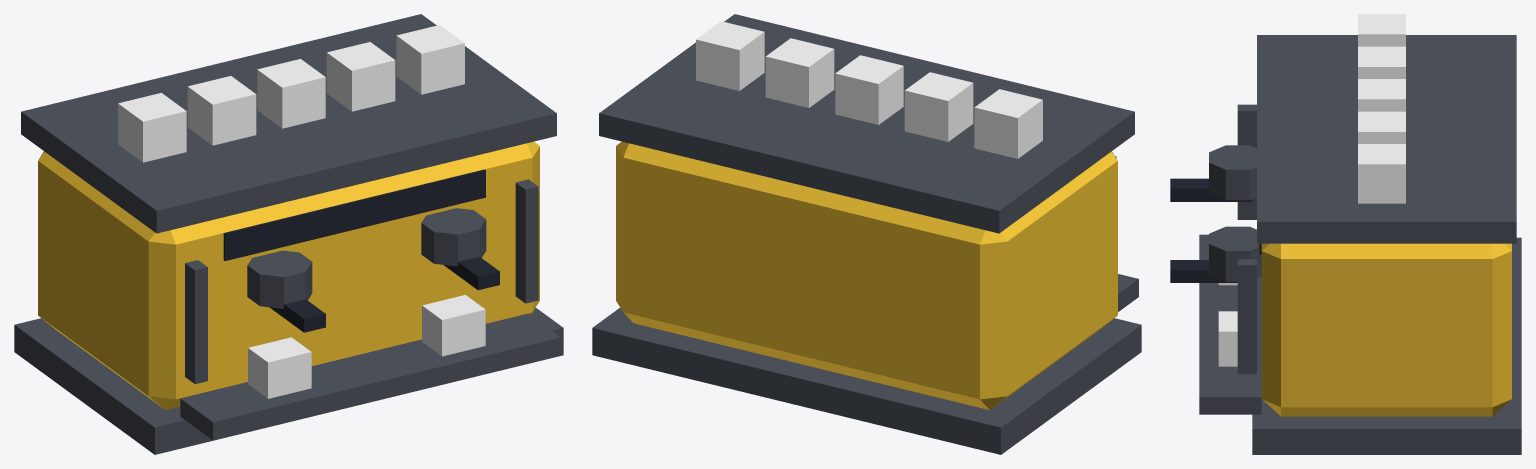
Rendered from espresso-pro.glb.
The picture shows the model from 3 angles, left to right: view 1: azimuth 30°, elevation 25°; view 2: azimuth 150°, elevation 25°; view 3: azimuth 270°, elevation 25°; orthographic projection. The views are drawn at different scales.
Parts seen in each view (by area): view 1: espresso_pro; view 2: espresso_pro; view 3: espresso_pro.
Boxes of the visible parts, x1,y1,x2,y2 form: espresso_pro: (14, 14, 563, 454); espresso_pro: (592, 14, 1141, 454); espresso_pro: (1170, 14, 1521, 454).
Size of the model in its own units: 0.94 by 0.62 by 0.73.
